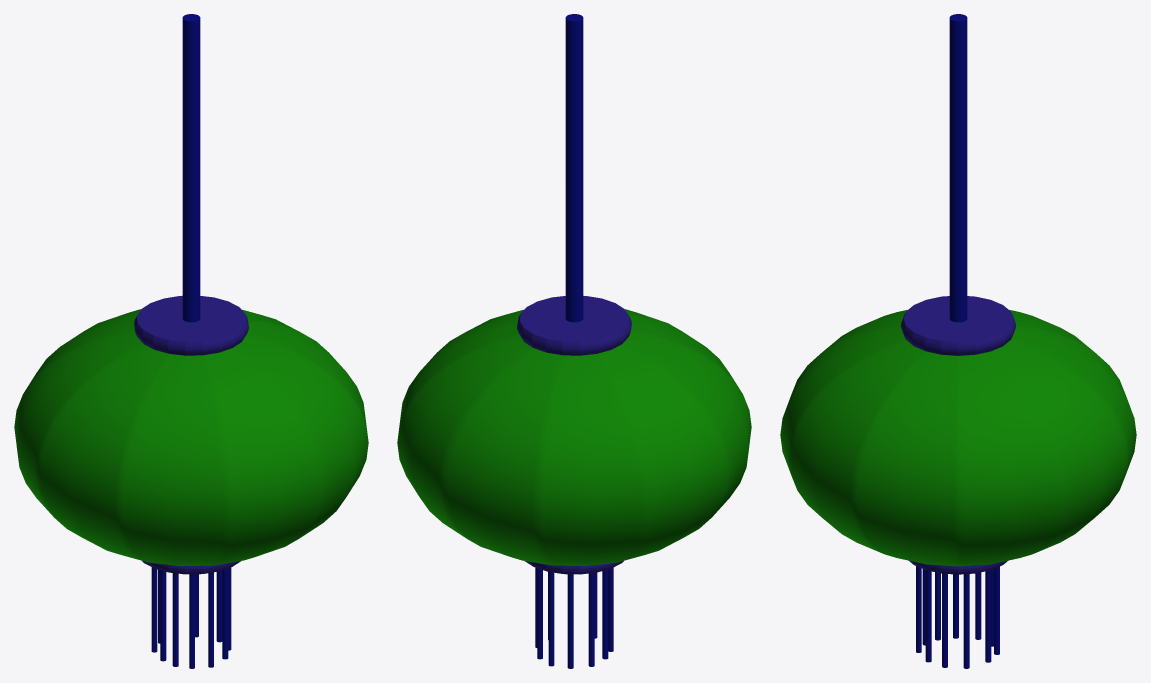
Rendered from Qin Dynasty Lantern.fbx.
3 renders of one model, left to right at view 1: azimuth 30°, elevation 25°; view 2: azimuth 150°, elevation 25°; view 3: azimuth 270°, elevation 25°, orthographic.
Visible parts, largest first — view 1: pSphere1 (×2), pCylinder1, pCylinder11, pCylinder2, pCylinder10, pCylinder9, pCylinder6, pCylinder12; view 2: pSphere1 (×2), pCylinder1, pCylinder8, pCylinder7, pCylinder9, pCylinder10, pCylinder5; view 3: pSphere1 (×2), pCylinder1, pCylinder4, pCylinder5, pCylinder2, pCylinder3, pCylinder7.
Part boxes in pixels (x1,y1,x2,y2): pSphere1 (×2): (14, 295, 368, 574); pCylinder1: (182, 14, 200, 322); pCylinder11: (172, 573, 178, 666); pCylinder2: (222, 568, 228, 659); pCylinder10: (160, 570, 166, 661); pCylinder9: (151, 567, 157, 652); pCylinder6: (208, 572, 213, 667); pCylinder12: (189, 574, 194, 668); pSphere1 (×2): (397, 296, 751, 574); pCylinder1: (565, 14, 583, 322); pCylinder8: (567, 574, 573, 668); pCylinder7: (548, 572, 554, 666); pCylinder9: (588, 573, 594, 666); pCylinder10: (602, 569, 608, 659); pCylinder5: (537, 568, 542, 659); pSphere1 (×2): (780, 296, 1136, 574); pCylinder1: (949, 14, 967, 322); pCylinder4: (963, 574, 969, 668); pCylinder5: (985, 570, 991, 662); pCylinder2: (925, 570, 931, 662); pCylinder3: (942, 573, 947, 667); pCylinder7: (994, 566, 999, 654).
Bounding box in the file's own units: 2 × 3.93 × 2.
